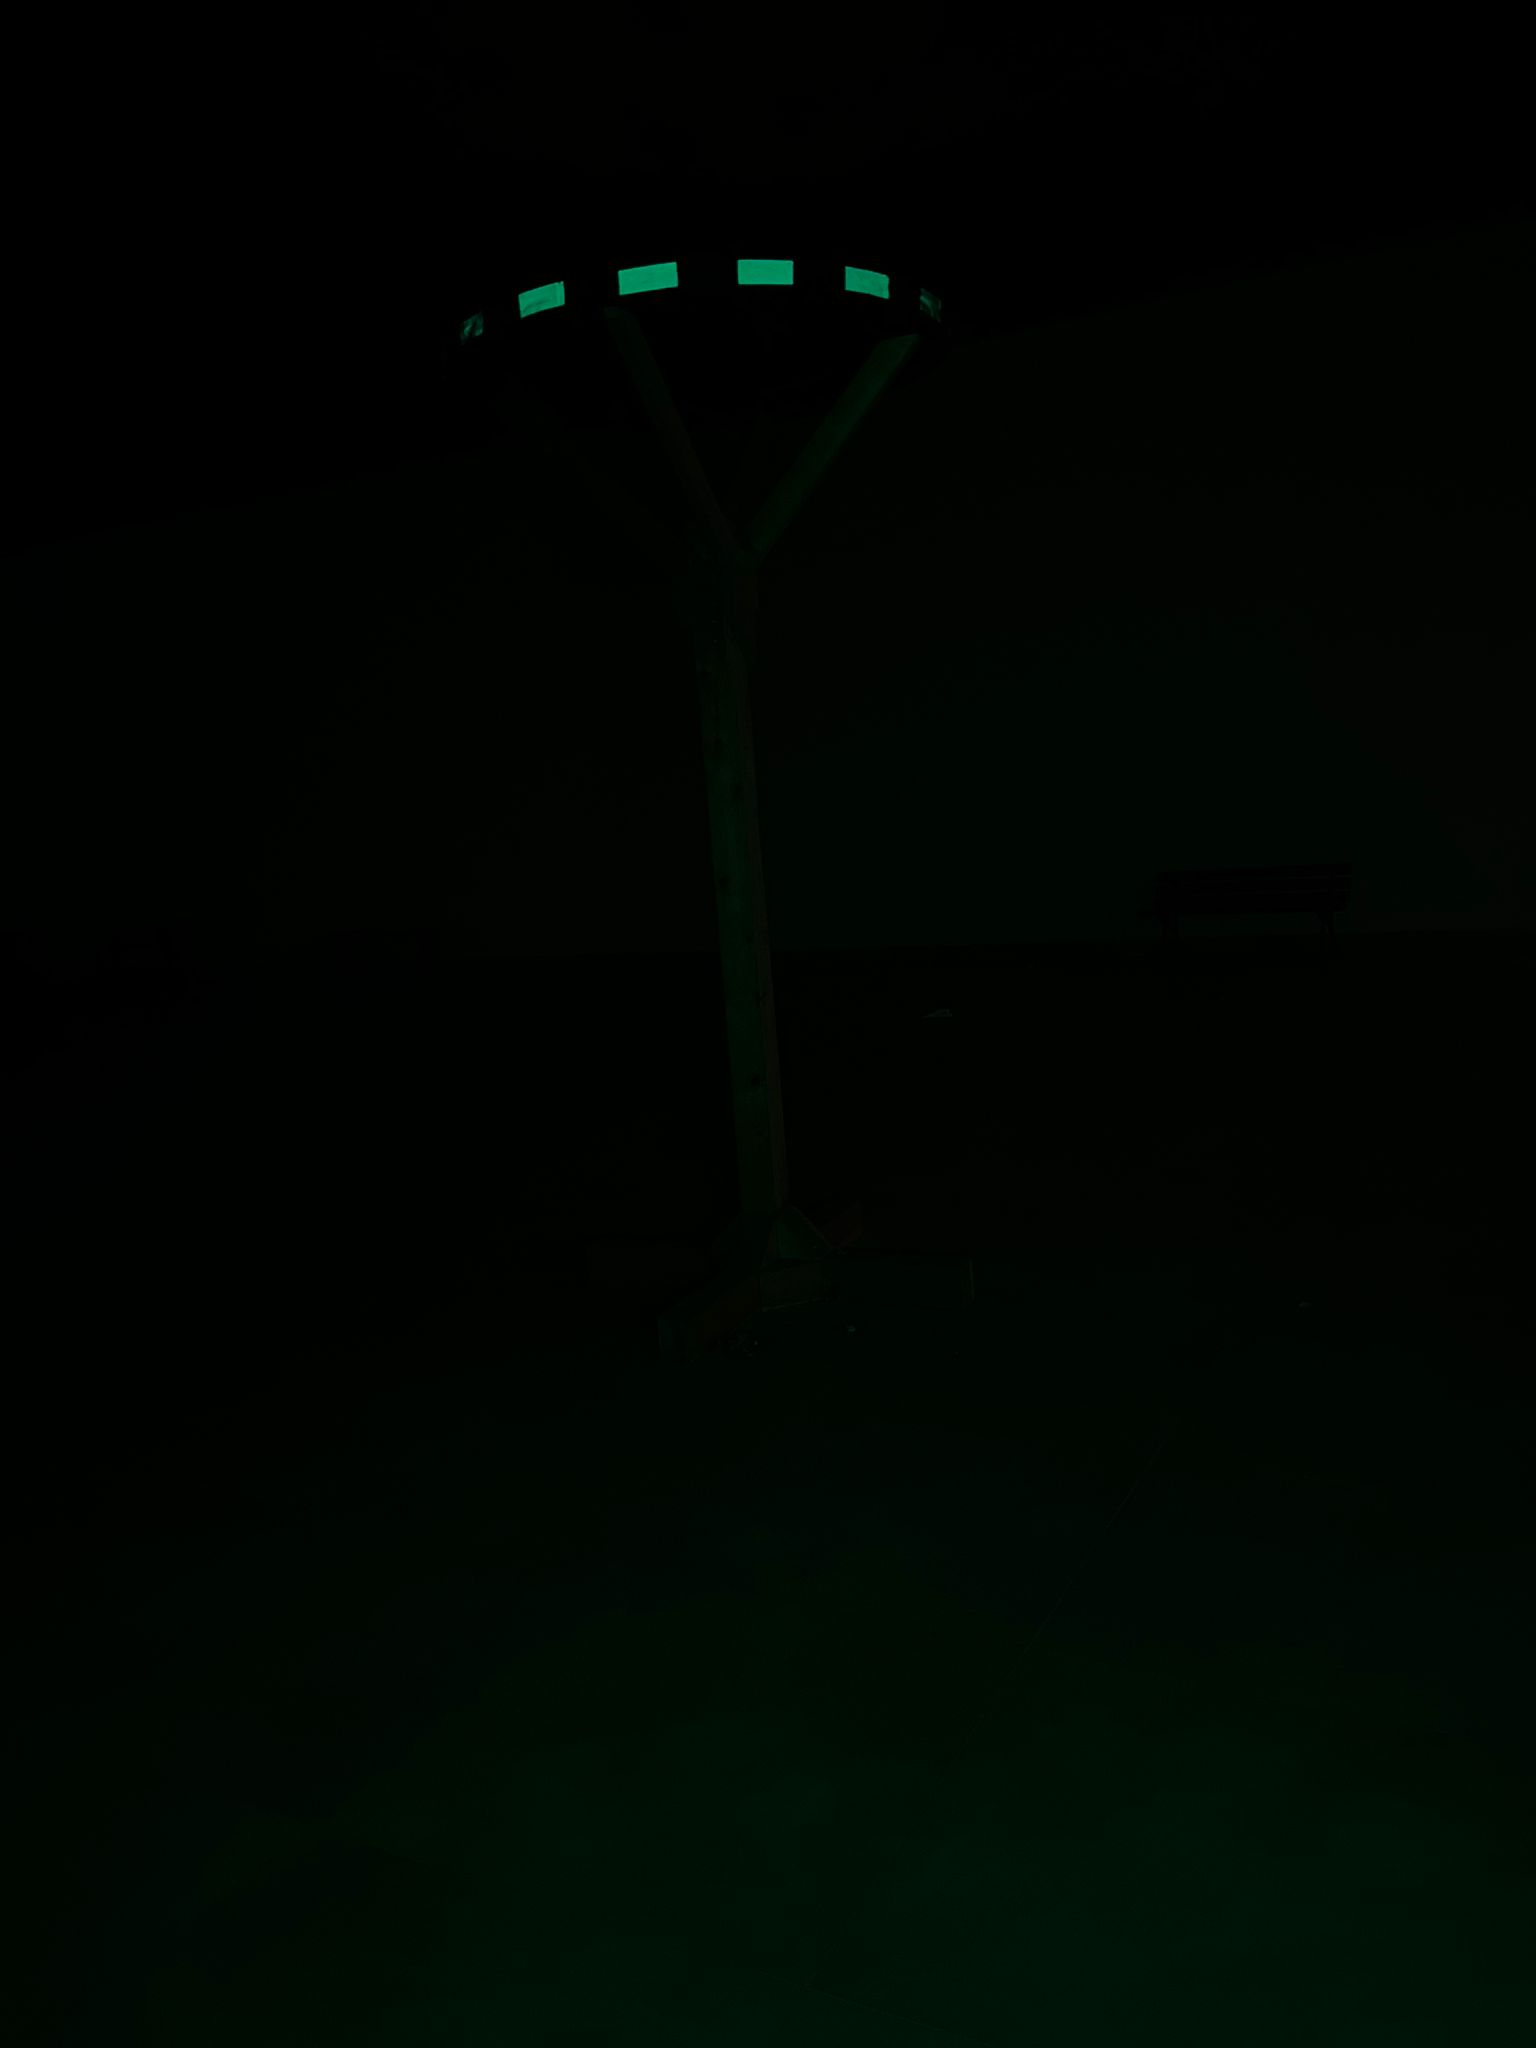hoop: (500, 255, 900, 327)
